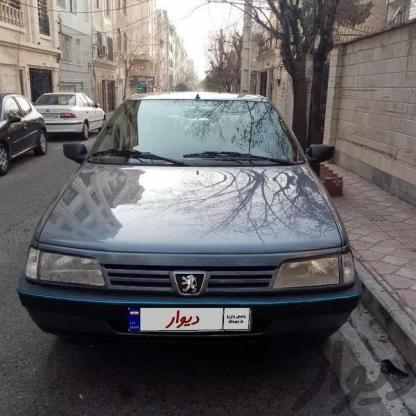Car: (20, 82, 362, 356), (29, 90, 116, 142), (0, 93, 44, 170)
